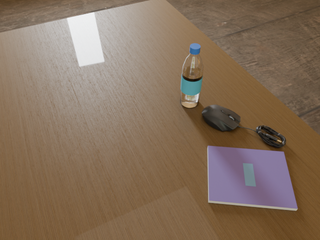book: (208, 146, 298, 211)
bottle: (180, 44, 203, 108)
mouse: (202, 105, 241, 131)
